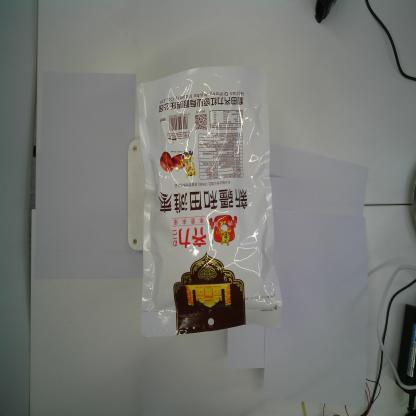Dried Food: (134, 61, 284, 341)
